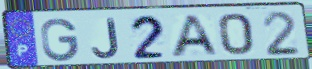0: (216, 12, 258, 57)
2: (129, 13, 170, 63), (261, 9, 302, 58)
A: (169, 14, 222, 59)
G: (39, 17, 81, 63)
J: (90, 17, 121, 60)
